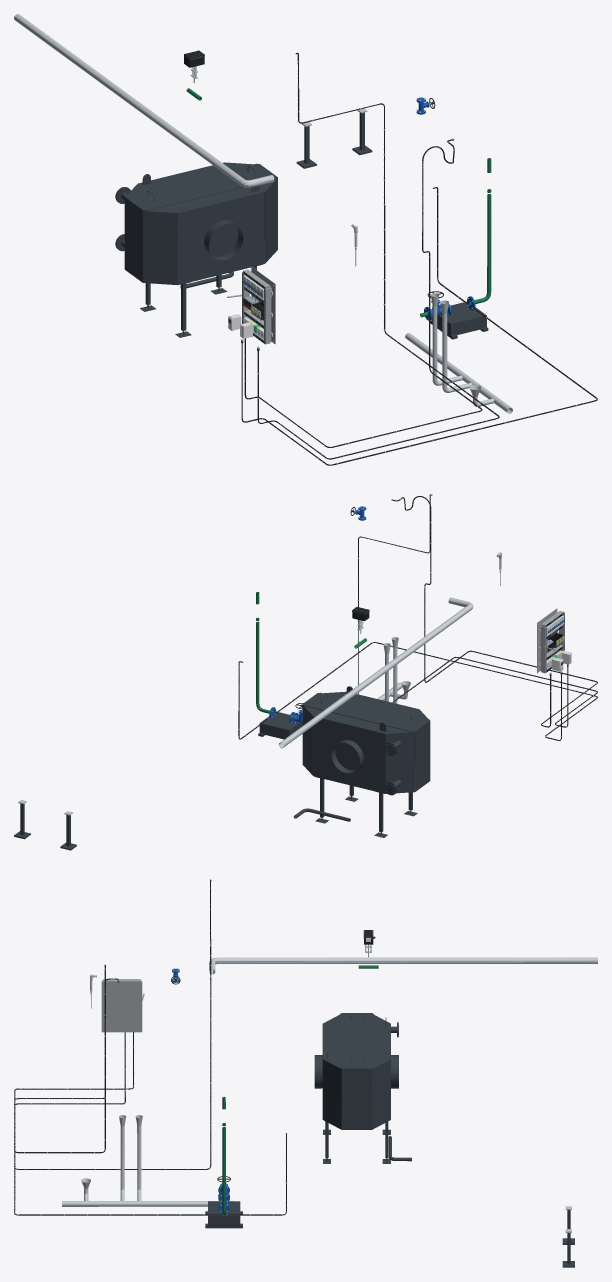
3 renders of one model, top to bottom at view 1: azimuth 30°, elevation 25°; view 2: azimuth 150°, elevation 25°; view 3: azimuth 270°, elevation 25°, orthographic. The views are drawn at different scales.
Parts seen in each view (by area): view 1: EQS2-2000 CAD 0, EQS2-2000 CAD 3, EQS2-2000 CAD 1, safety_vent_2 / steel, local_open_drains / steel, cabinet_interior / cabinet_interior_0.npz, gpz_drive_cable / black, wiring_pump_2 / black, wiring_pressure_transmitter / black, pump_branch_1 / dark, pump_branch_1 / green, trap_support / dark; view 2: EQS2-2000 CAD 0, EQS2-2000 CAD 3, EQS2-2000 CAD 2, safety_vent_2 / steel, cabinet_interior / cabinet_interior_0.npz, wiring_pump_2 / black, wiring_pressure_transmitter / black, gpz_drive_cable / black, local_open_drains / steel, pump_branch_1 / dark; view 3: EQS2-2000 CAD 3, safety_vent_2 / steel, cabinet_interior / cabinet_interior_0.npz, local_open_drains / steel, wiring_pump_2 / black, EQS2-2000 CAD 0, wiring_pressure_transmitter / black, pump_branch_1 / dark, gpz_drive_cable / black.
Boxes of the visible parts, <box> form: EQS2-2000 CAD 0: <box>140,192,264,337</box>; EQS2-2000 CAD 3: <box>124,162,277,282</box>; EQS2-2000 CAD 1: <box>143,211,177,285</box>; safety_vent_2 / steel: <box>14,14,274,187</box>; local_open_drains / steel: <box>405,293,512,413</box>; cabinet_interior / cabinet_interior_0.npz: <box>227,266,275,344</box>; gpz_drive_cable / black: <box>257,52,499,459</box>; wiring_pump_2 / black: <box>241,187,597,465</box>; wiring_pressure_transmitter / black: <box>244,139,482,447</box>; pump_branch_1 / dark: <box>430,301,488,339</box>; pump_branch_1 / green: <box>420,158,491,317</box>; trap_support / dark: <box>296,112,372,168</box>; EQS2-2000 CAD 0: <box>313,716,417,837</box>; EQS2-2000 CAD 3: <box>302,686,430,791</box>; EQS2-2000 CAD 2: <box>384,732,415,795</box>; safety_vent_2 / steel: <box>278,597,473,748</box>; cabinet_interior / cabinet_interior_0.npz: <box>537,608,564,673</box>; wiring_pump_2 / black: <box>238,642,597,740</box>; wiring_pressure_transmitter / black: <box>393,496,597,727</box>; gpz_drive_cable / black: <box>358,494,597,727</box>; local_open_drains / steel: <box>377,637,410,703</box>; pump_branch_1 / dark: <box>258,711,302,739</box>; EQS2-2000 CAD 3: <box>322,1013,390,1129</box>; safety_vent_2 / steel: <box>209,957,597,974</box>; cabinet_interior / cabinet_interior_0.npz: <box>101,979,144,1032</box>; local_open_drains / steel: <box>62,1115,233,1206</box>; wiring_pump_2 / black: <box>14,1032,286,1215</box>; EQS2-2000 CAD 0: <box>314,1047,398,1163</box>; wiring_pressure_transmitter / black: <box>14,964,134,1153</box>; pump_branch_1 / dark: <box>205,1201,242,1228</box>; gpz_drive_cable / black: <box>14,879,211,1169</box>.
Size of the model in its own units: 4.65 by 3.66 by 7.03.
